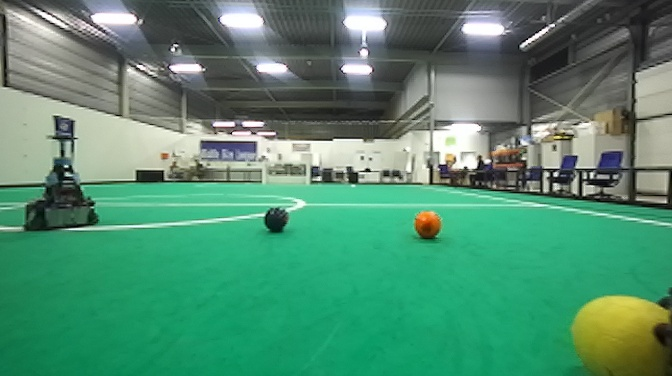ball: (564, 288, 672, 376), (409, 209, 445, 244), (262, 202, 294, 238)
goal: (260, 161, 310, 188)
goalpost: (304, 161, 310, 186), (261, 162, 267, 185)
robot: (18, 111, 104, 235)
